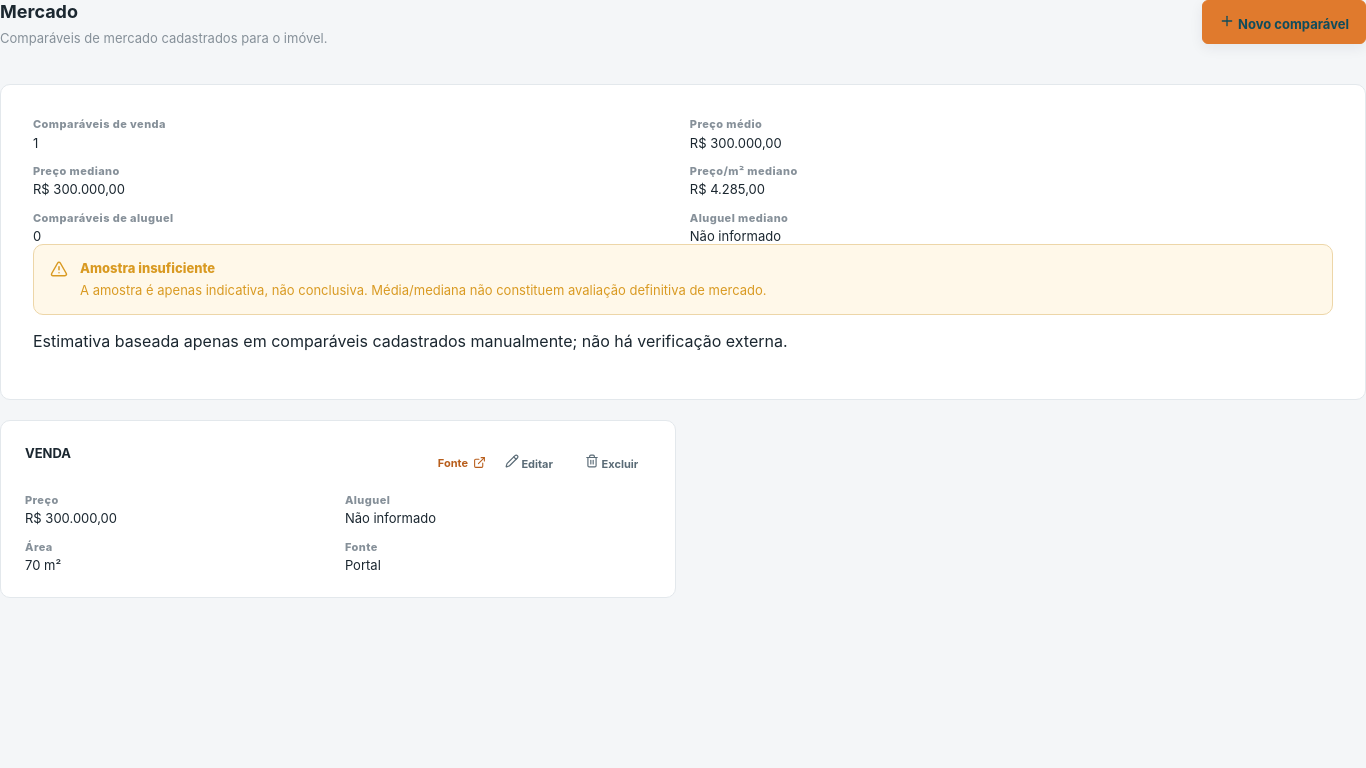
Scenario: MarketSection › exclui um comparável após confirmação
The width and height of the screenshot is (1366, 768).
Expected: the text "VENDA" is shown, [25,445,71,461]
Step 1. Click the button "Excluir" → (612, 463), box [572,445,651,481]
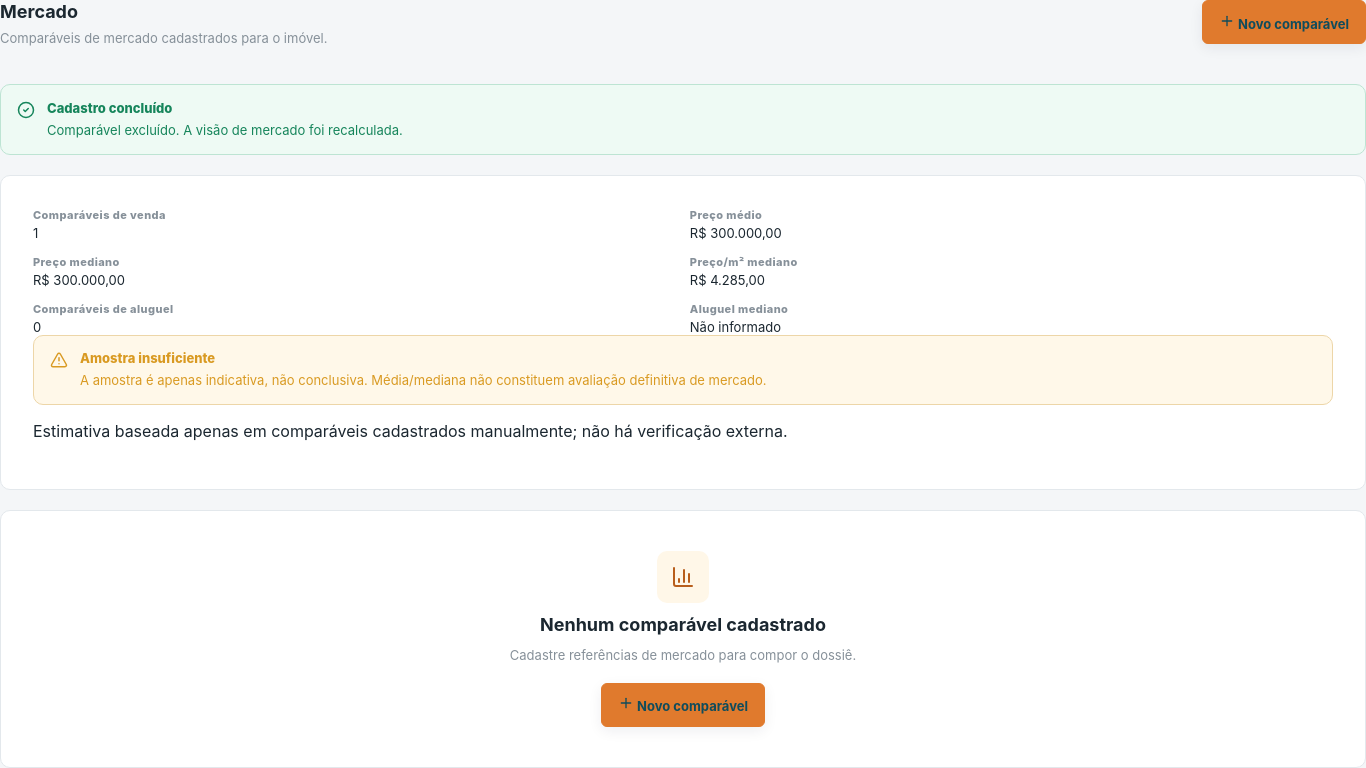
Expected: the text "Comparável excluído. A visão de mercado foi recalculada." is shown, [47,122,403,138]
